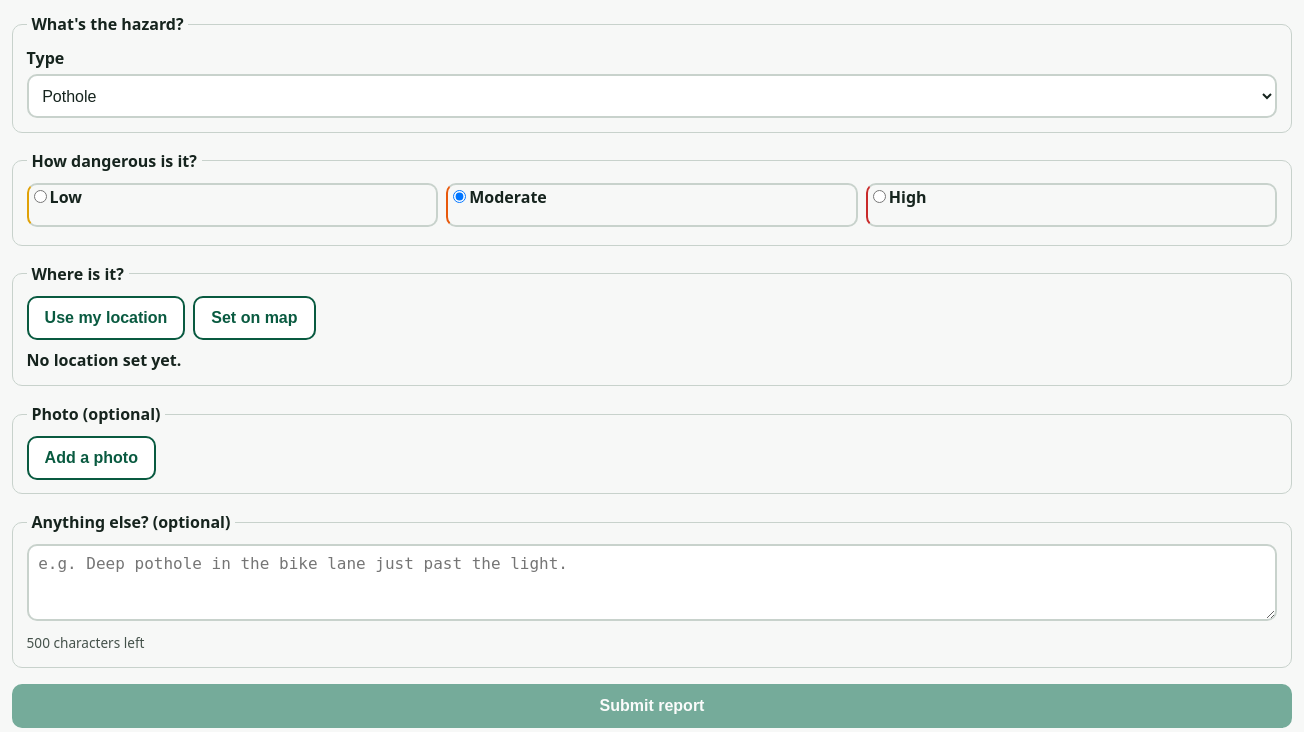
Test: ReportForm › saves a report to the offline queue on submit
Select "Glass / debris" in the dropdown labelled "Type" at (652, 96), box [27,74,1277,118]
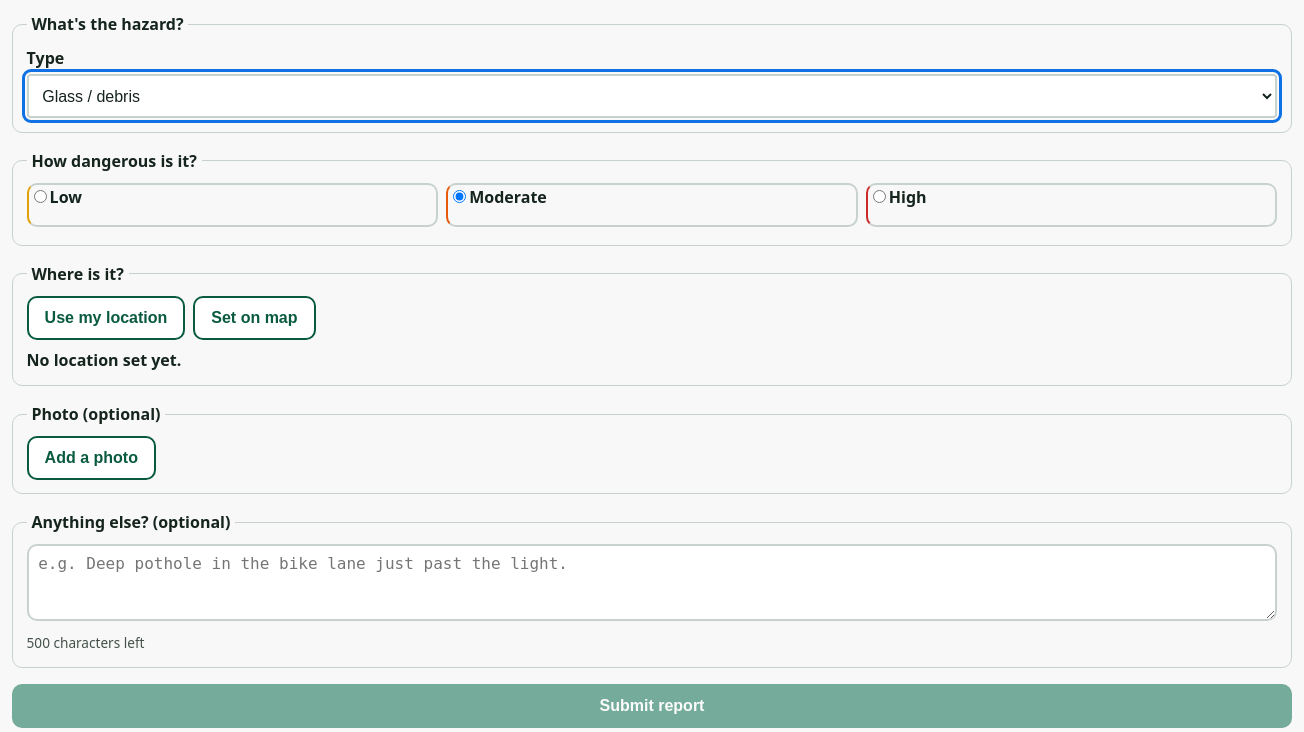
Click the button "Use my location" at (106, 318), box [27,296,185,340]
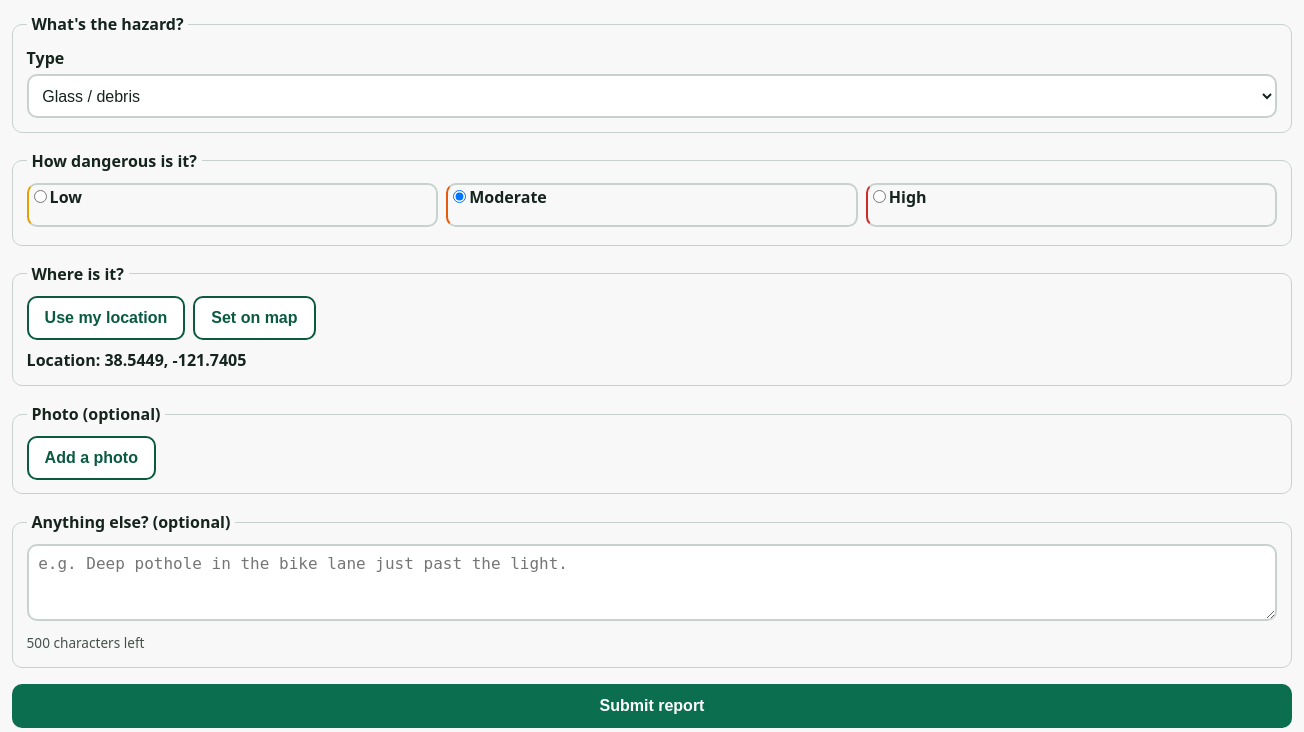
Check: the button "Submit report" is enabled
Click the button "Submit report" at (652, 706), box [12,684,1292,728]
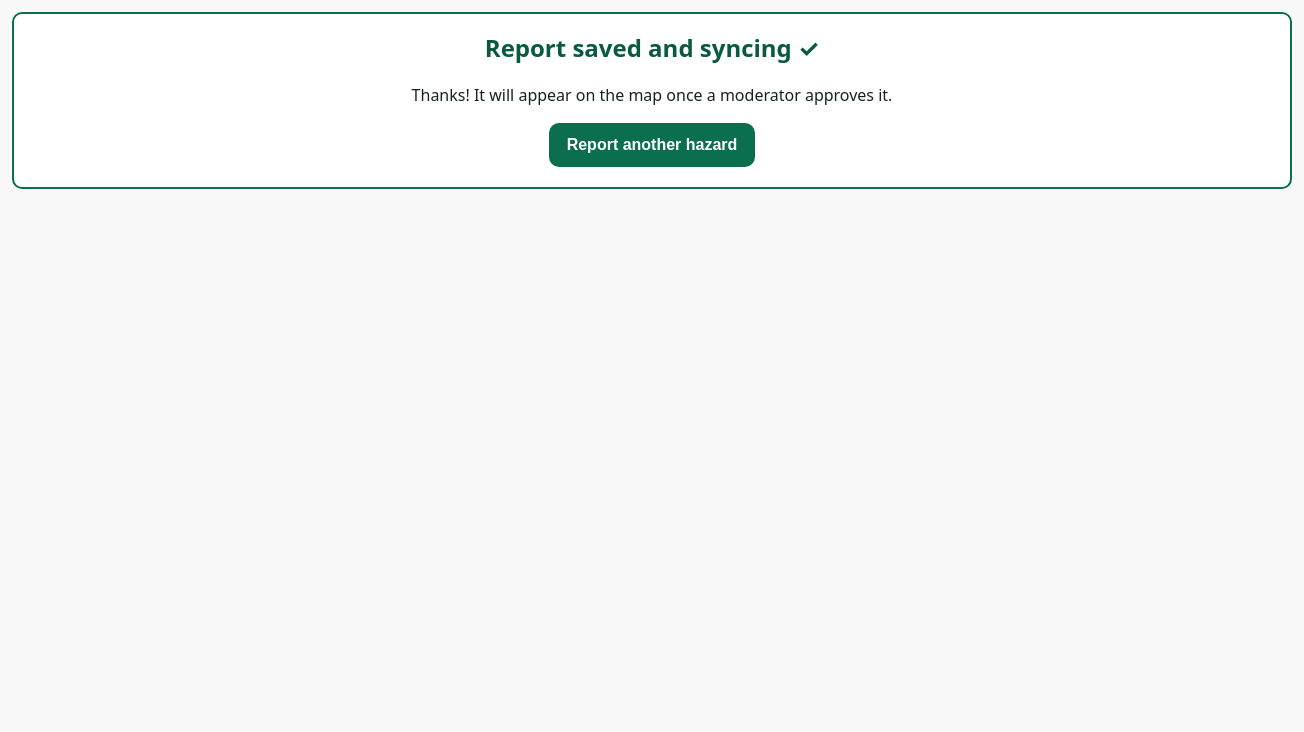
Check: the message shows "Report saved", box [485,31,819,64]
